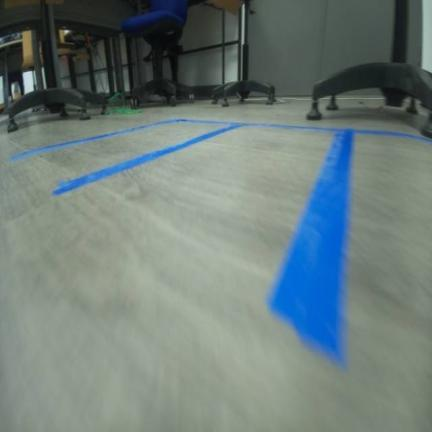place: (51, 121, 356, 372), (263, 128, 431, 418), (10, 116, 245, 196)
